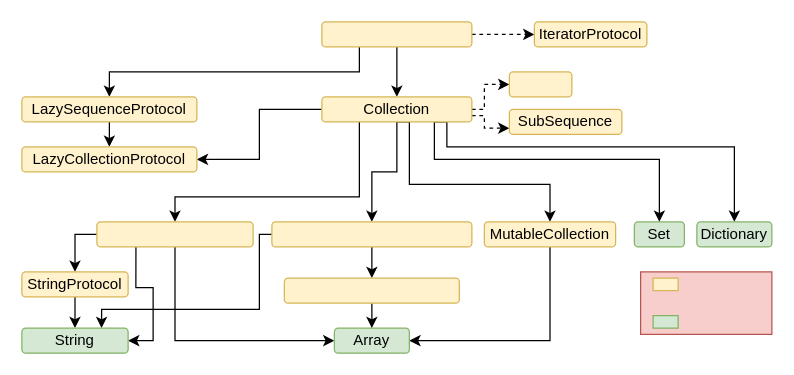
Image size: 794x375. Some labels were removed from this diagram. Each missing label, with the centre of its shape:
BidirectionalCollection: pixel 174 234
Index: pixel 540 84
Protocols Structs: pixel 705 302
RandomAccessCollection: pixel 371 290
RangeReplaceableCollection: pixel 371 234
Sequence: pixel 396 34
